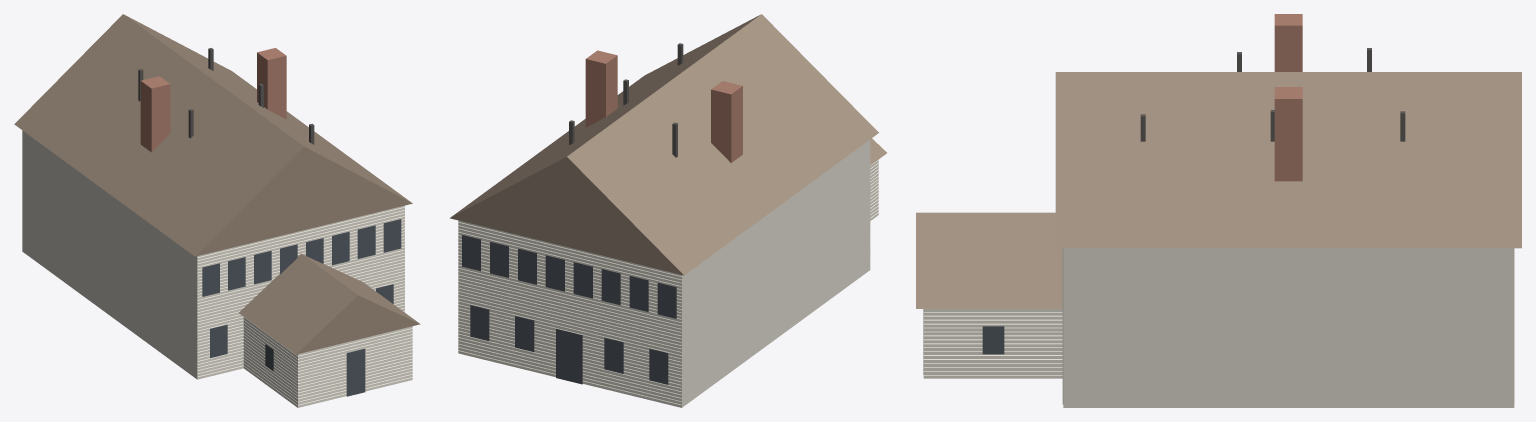
Rendered from recon_1835_blk_school_section_tier_95_h3_02__inferred_1835.glb.
3 renders of one model, left to right at view 1: azimuth 30°, elevation 25°; view 2: azimuth 150°, elevation 25°; view 3: azimuth 270°, elevation 25°, orthographic. The views are drawn at different scales.
Parts seen in each view (by area): view 1: recon_1835_blk_school_section_tier_95_h3_02__inferred_1835; view 2: recon_1835_blk_school_section_tier_95_h3_02__inferred_1835; view 3: recon_1835_blk_school_section_tier_95_h3_02__inferred_1835.
Part boxes in pixels (x1,y1,x2,y2): recon_1835_blk_school_section_tier_95_h3_02__inferred_1835: (14, 14, 420, 407); recon_1835_blk_school_section_tier_95_h3_02__inferred_1835: (450, 14, 886, 407); recon_1835_blk_school_section_tier_95_h3_02__inferred_1835: (916, 14, 1521, 407).
Size of the model in its own units: 10.46 by 10.18 by 19.54.
